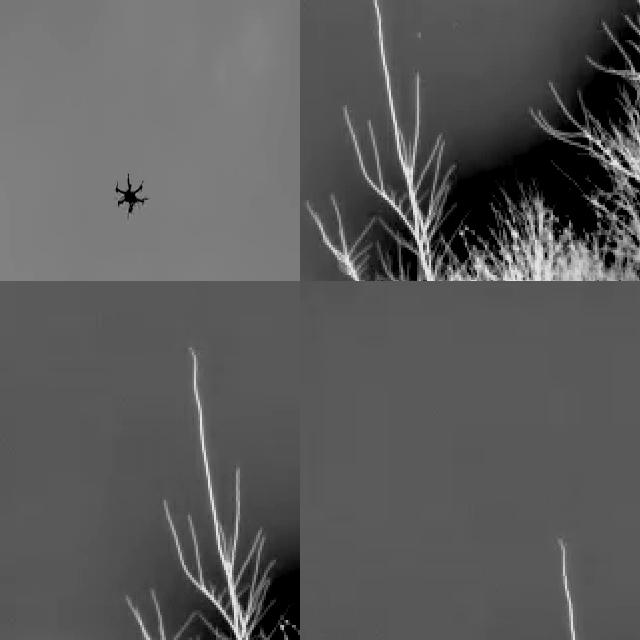0: (405, 24, 429, 46), (295, 395, 300, 422)
drone: (112, 170, 150, 222)
